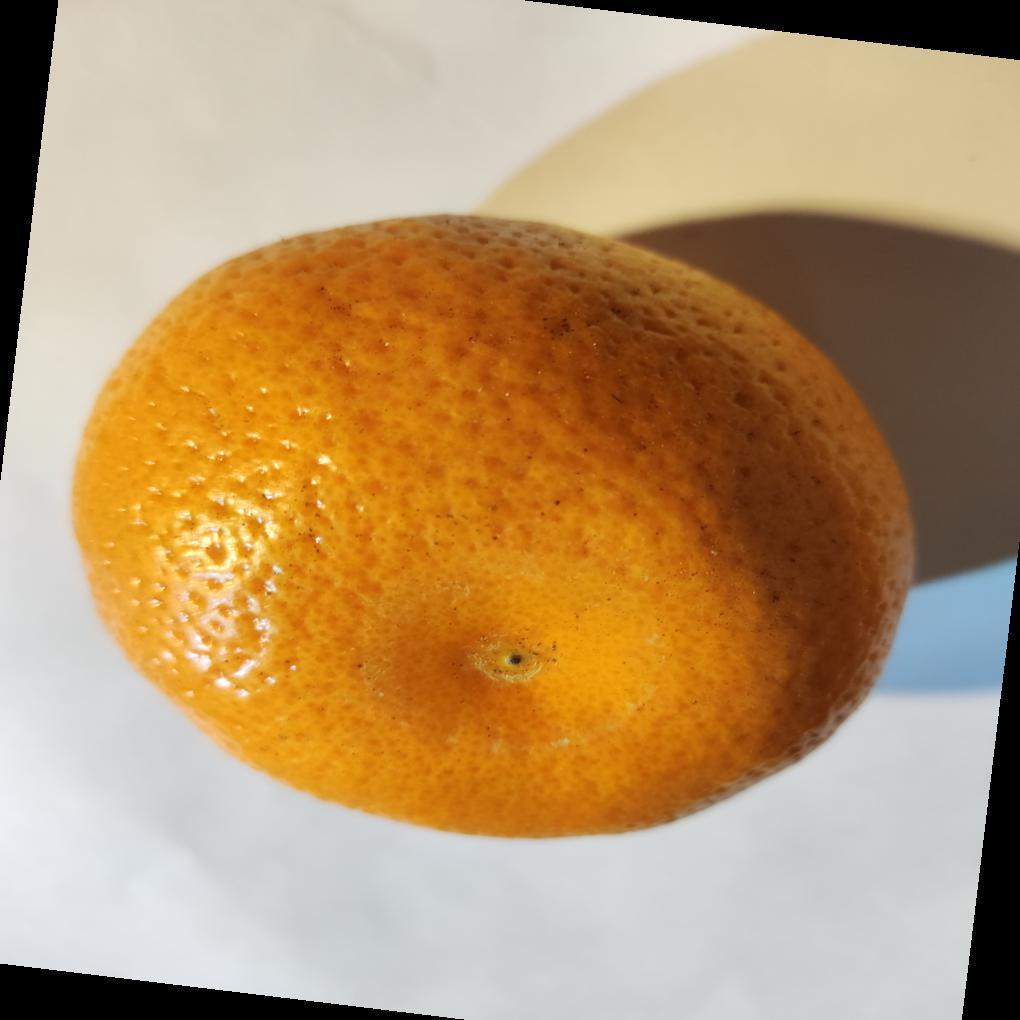FreshGuava: (69, 214, 918, 845)
